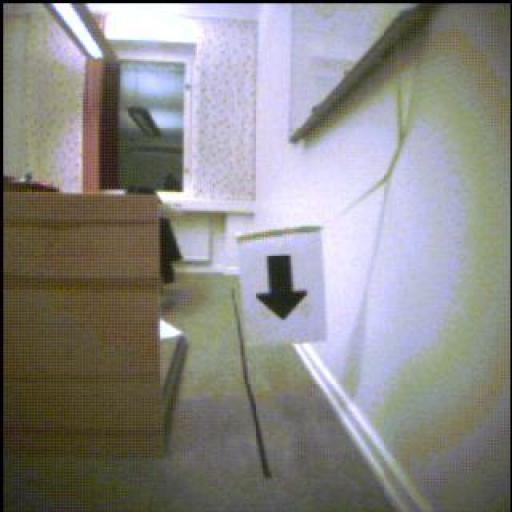Arrow: (257, 257, 308, 319)
